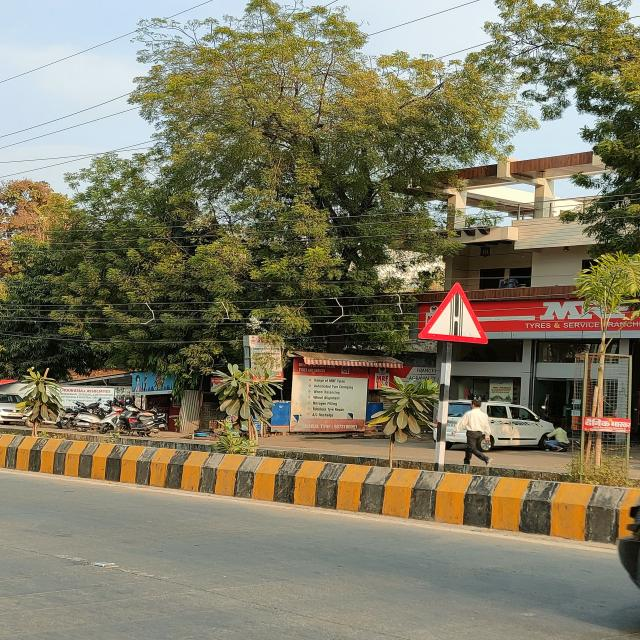ferry: (419, 282, 489, 344)
